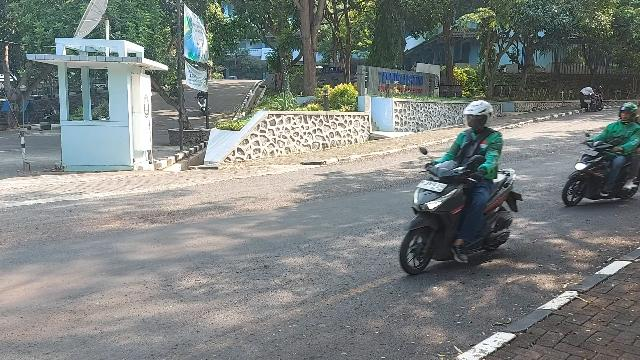helm: (465, 102, 494, 131), (620, 104, 638, 123)
motor: (402, 148, 524, 277), (563, 134, 640, 207)
